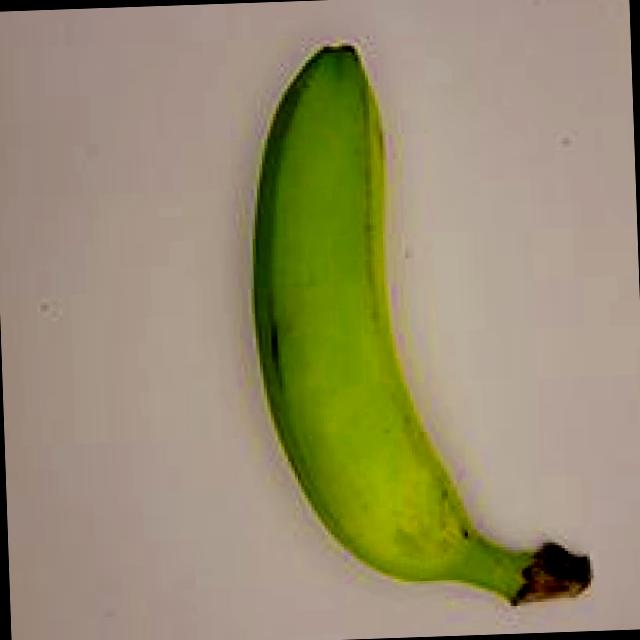Unripe: (186, 10, 628, 640)
